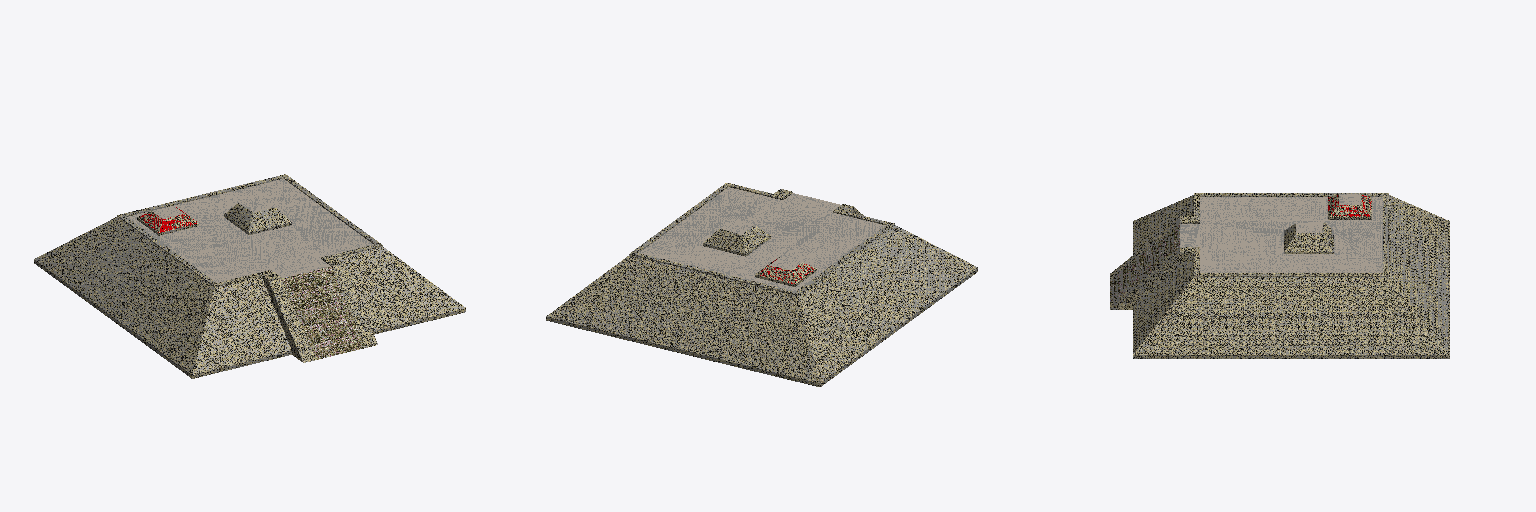
The picture shows the model from 3 angles: view 1: azimuth 30°, elevation 25°; view 2: azimuth 150°, elevation 25°; view 3: azimuth 270°, elevation 25°; orthographic projection.
Visible parts, largest first — view 1: Mesh1 Model; view 2: Mesh1 Model; view 3: Mesh1 Model.
Part boxes in pixels (left/top/right/bottom): Mesh1 Model: left=34, top=174, right=465, bottom=378; Mesh1 Model: left=546, top=183, right=977, bottom=386; Mesh1 Model: left=1110, top=193, right=1449, bottom=358.
Bounding box in the file's own units: 110 × 27.55 × 118.
Materials: 6 (2 with a texture image).